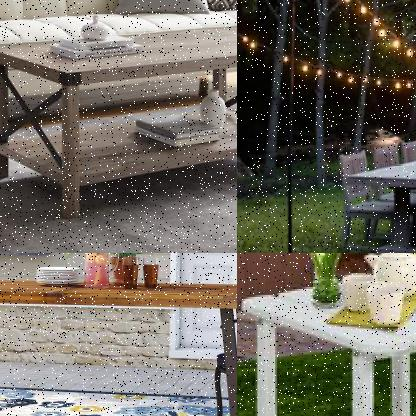table: (0, 22, 236, 223), (0, 269, 236, 415), (240, 258, 415, 415), (340, 145, 415, 252)
